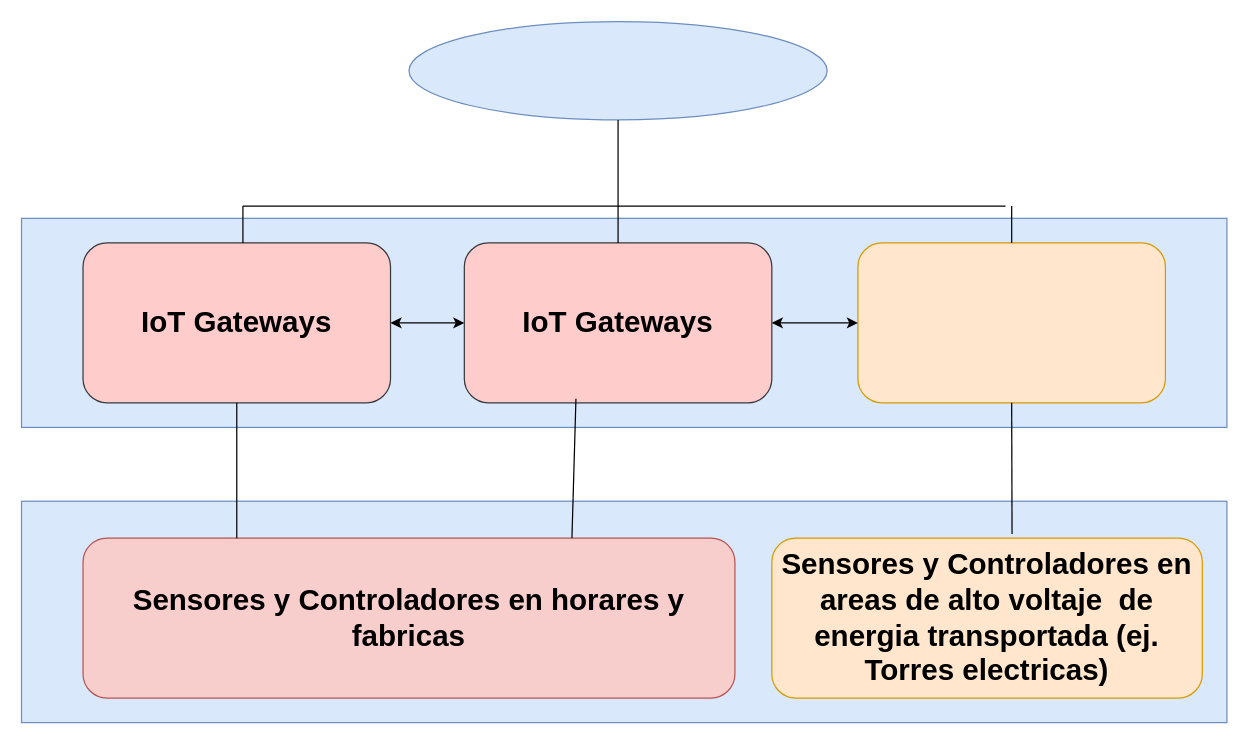
Some shapes in this 1248 by 744 pixel diagram are drawn without their labels. The centre of each missing label's shape, as x and y in pixels:
Internet: pixel 617 70
Lan/Wan (Red de Area Local y metropolitana): pixel 1011 322
